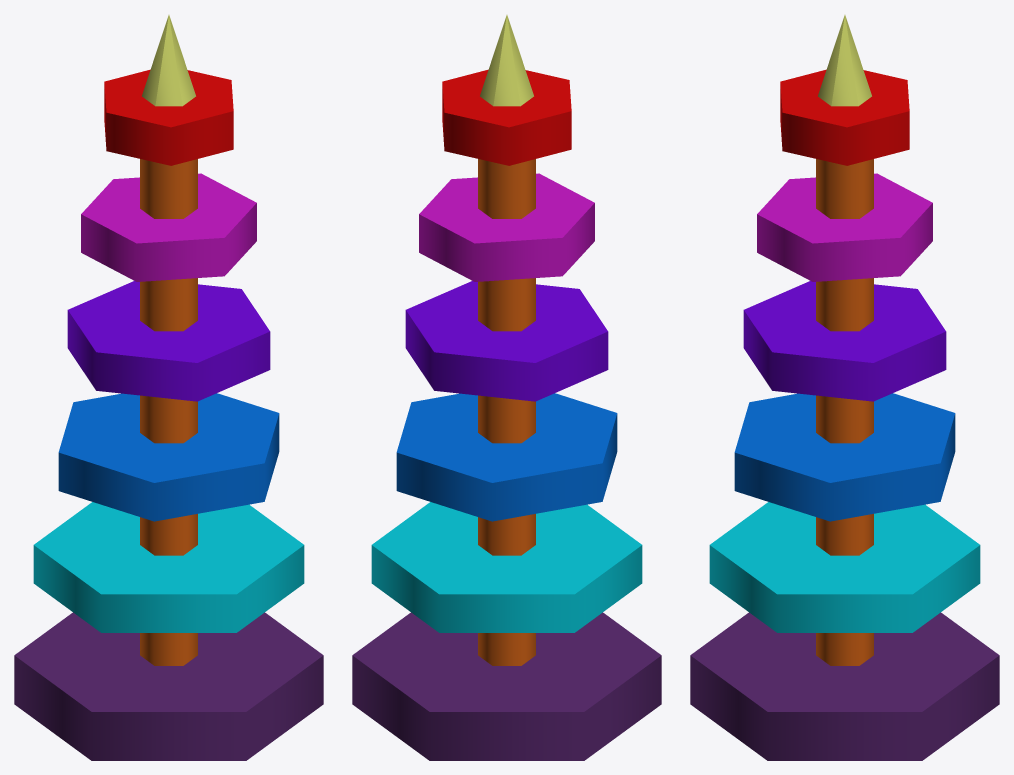
File: signal-spire.glb
3 renders of one model, left to right at view 1: azimuth 30°, elevation 25°; view 2: azimuth 150°, elevation 25°; view 3: azimuth 270°, elevation 25°, orthographic.
Size of the model in its own units: 3.46 by 9.85 by 4.
